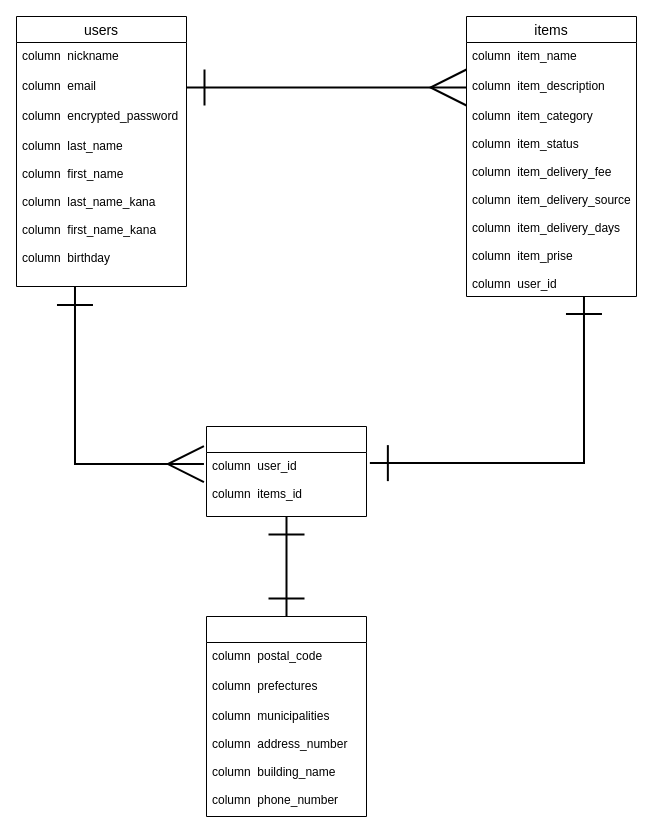
Image size: 653x833. Some labels were removed from this diagram. Here are the shapes that lost their labels. From the top down, the box of each, then its label:
(206, 426, 366, 516): purchases
(206, 616, 366, 816): addresss
